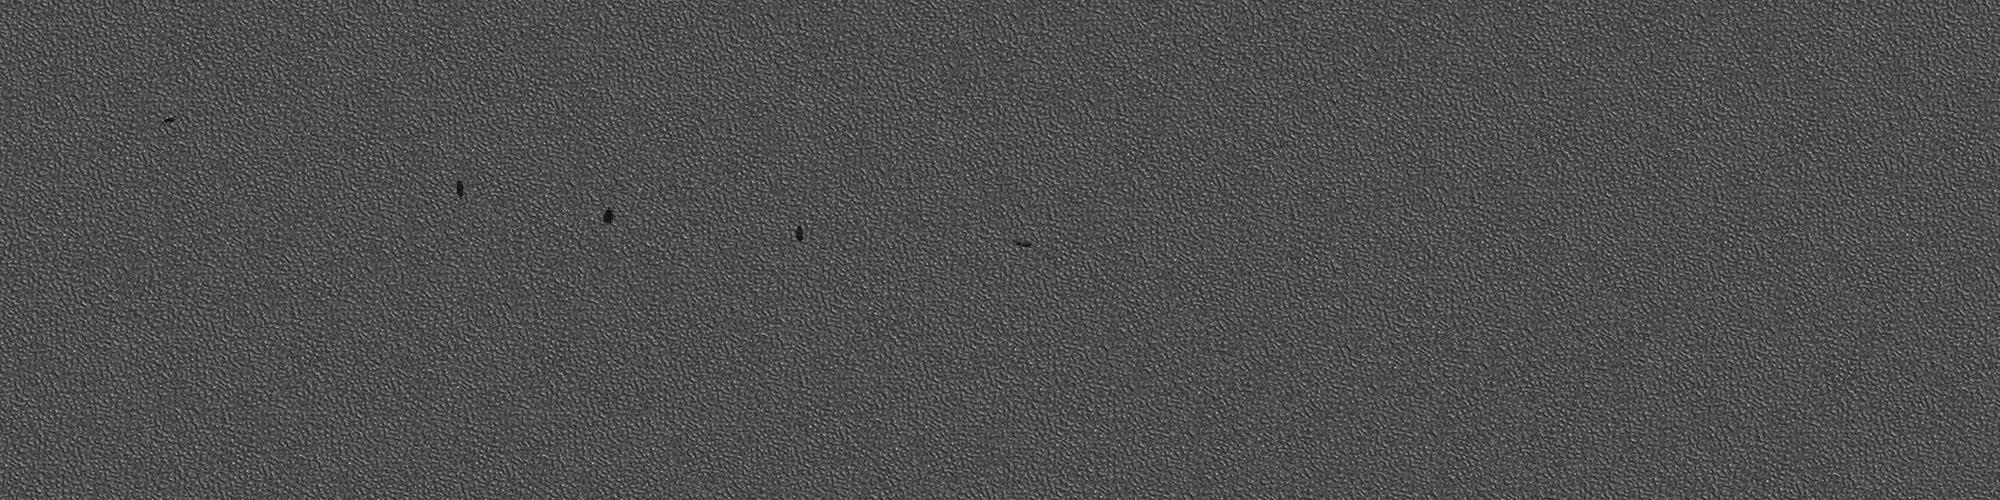Decomposed: (787, 219, 816, 253), (1006, 233, 1042, 254), (159, 107, 184, 131), (444, 179, 472, 196), (596, 210, 619, 230)
